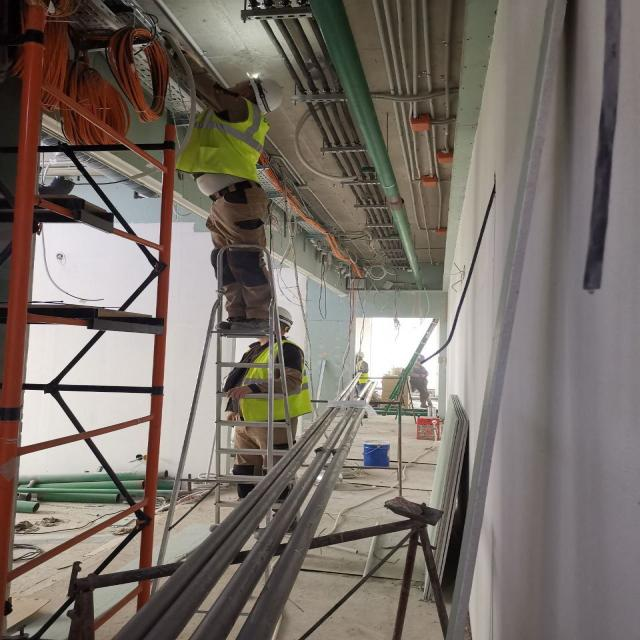Helmet: (244, 74, 284, 111)
Jacket: (195, 103, 271, 175), (246, 343, 304, 424), (358, 362, 369, 383)
NoJacket: (412, 366, 426, 385)
